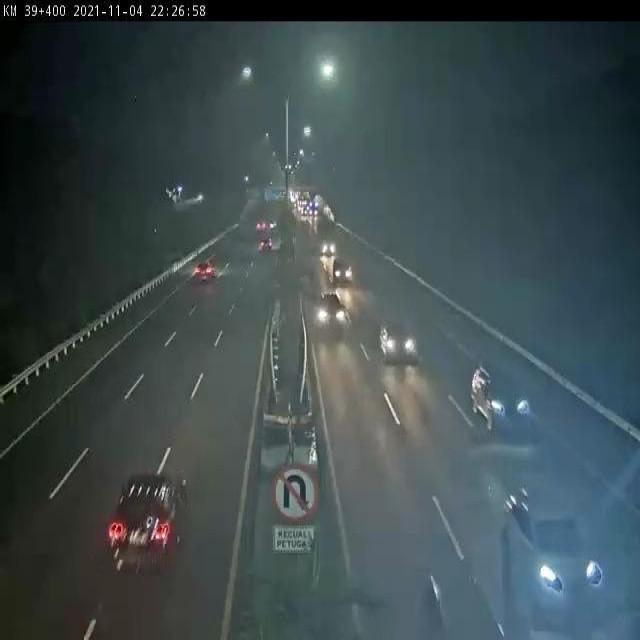car: (501, 482, 610, 622), (109, 473, 187, 575), (473, 362, 533, 430), (377, 313, 417, 363), (314, 290, 347, 330), (192, 259, 217, 285)
